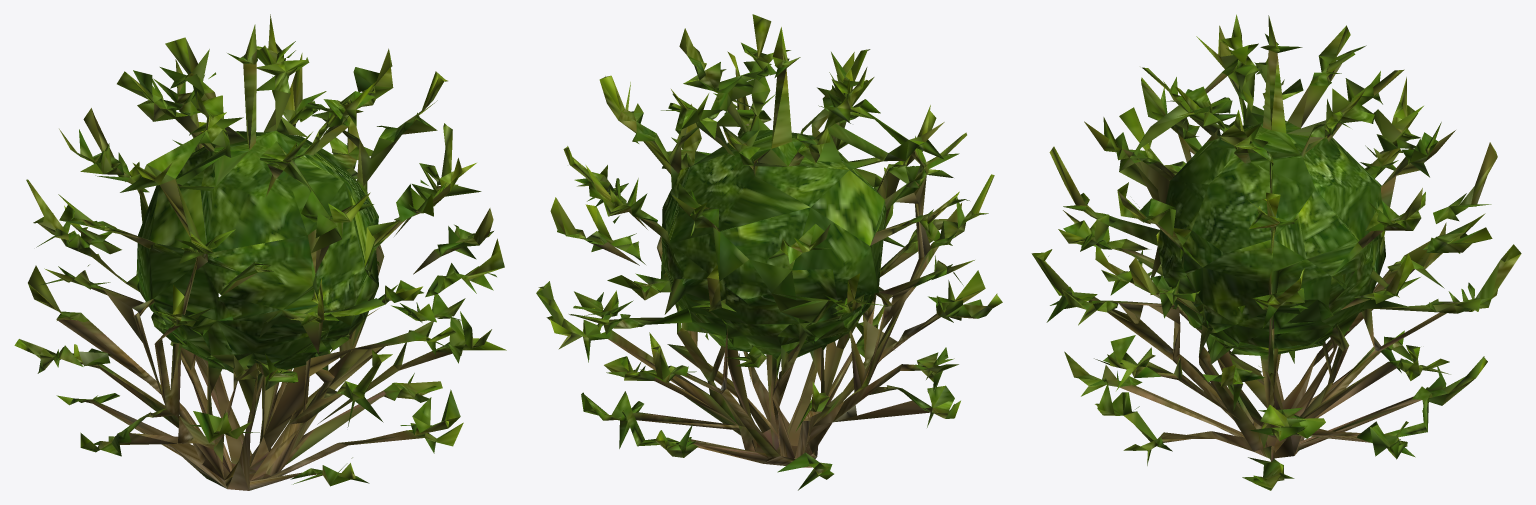
File: arbusto.glb
3 renders of one model, left to right at view 1: azimuth 30°, elevation 25°; view 2: azimuth 150°, elevation 25°; view 3: azimuth 270°, elevation 25°, orthographic. The views are drawn at different scales.
Visible parts, largest first — view 1: arbusto; view 2: arbusto; view 3: arbusto.
Boxes of the visible parts, bbox=[...] form: arbusto: bbox=[14, 14, 506, 490]; arbusto: bbox=[536, 14, 1002, 490]; arbusto: bbox=[1031, 14, 1521, 490].
Size of the model in its own units: 1.01 by 1 by 1.02.
Materials: 1 (1 with a texture image).
